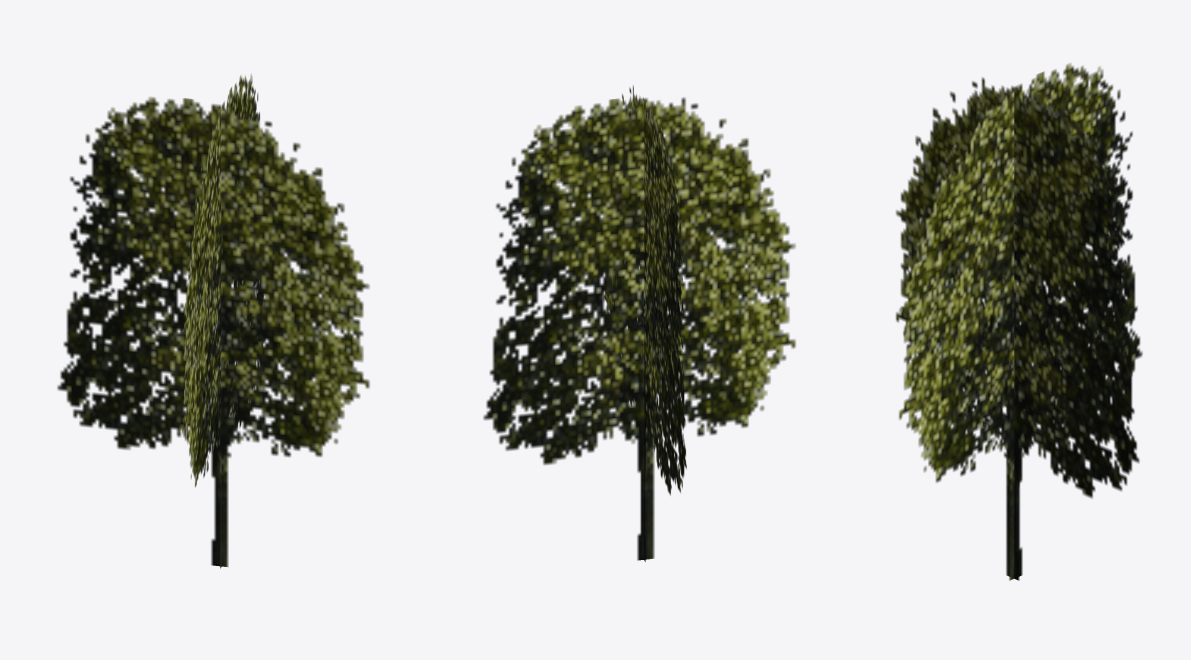
The model's file is tree088.glb.
3 renders of one model, left to right at view 1: azimuth 30°, elevation 25°; view 2: azimuth 150°, elevation 25°; view 3: azimuth 270°, elevation 25°, orthographic. The views are drawn at different scales.
Parts seen in each view (by area): view 1: tree088; view 2: tree088; view 3: tree088.
Part boxes in pixels (bbox=[...]): tree088: bbox=[57, 74, 369, 568]; tree088: bbox=[483, 85, 795, 561]; tree088: bbox=[896, 63, 1142, 580].
Size of the model in its own units: 1.93 by 3.35 by 1.86.
1 material, 1 textured.
